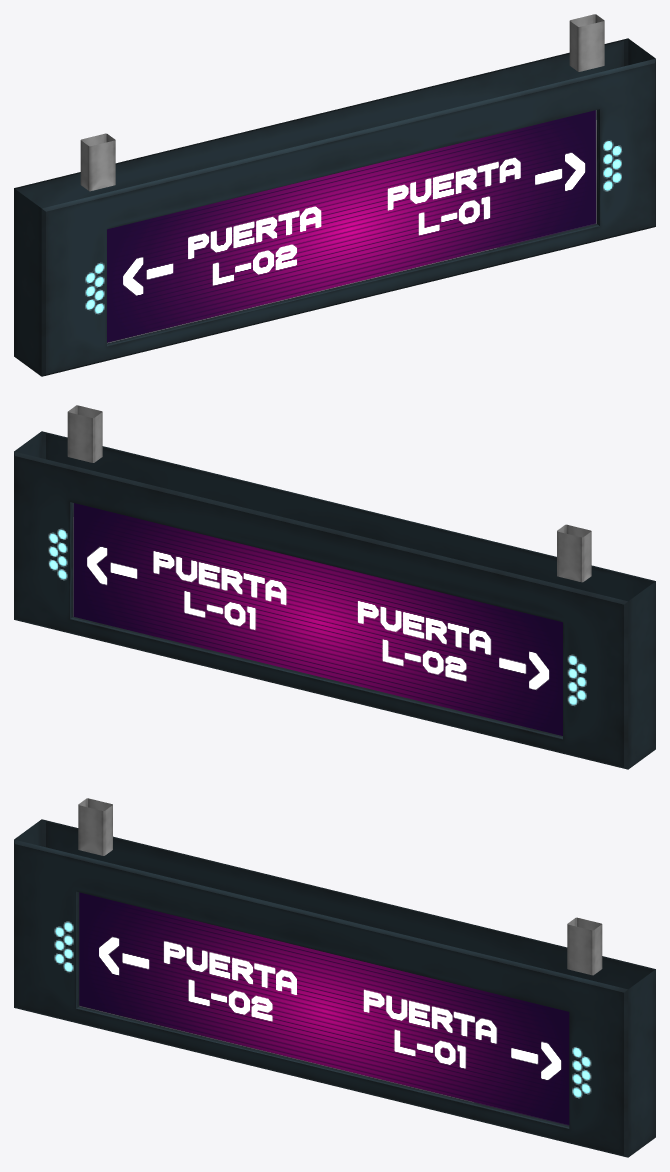
Rendered from Cartel A text.fbx.
3 renders of one model, top to bottom at view 1: azimuth 30°, elevation 25°; view 2: azimuth 150°, elevation 25°; view 3: azimuth 330°, elevation 25°, orthographic.
Parts seen in each view (by area): view 1: obj_cartel; view 2: obj_cartel; view 3: obj_cartel.
Part boxes in pixels (left/top/right/bottom): obj_cartel: left=14, top=14, right=655, bottom=376; obj_cartel: left=14, top=405, right=655, bottom=769; obj_cartel: left=14, top=798, right=655, bottom=1157.
Bounding box in the file's own units: 217 × 71.11 × 18.85.
1 material, 1 textured.
